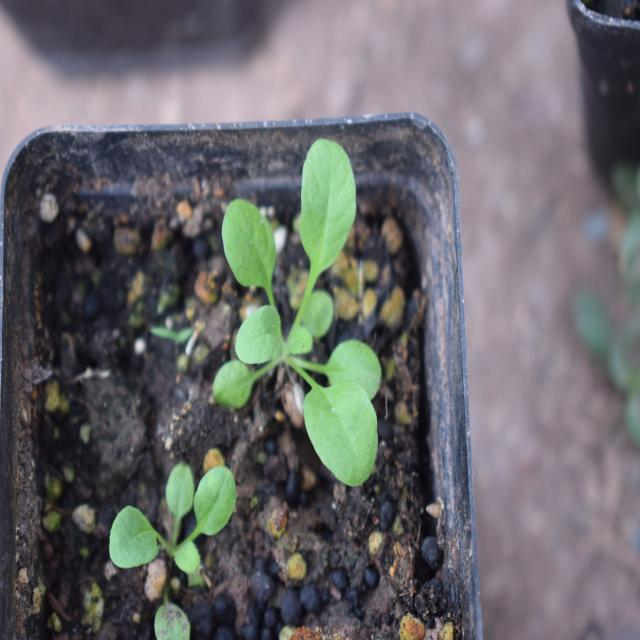Shepherd_Purse: (196, 130, 415, 466), (99, 436, 247, 584)
